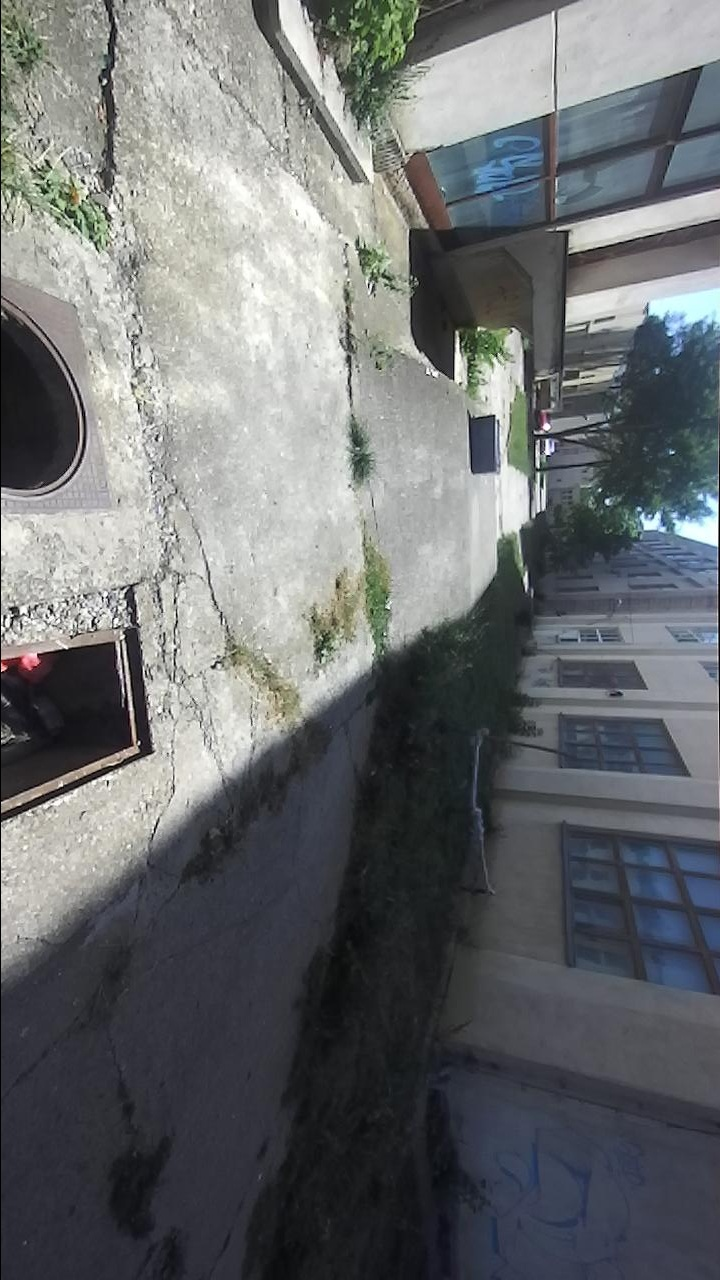drain: (1, 621, 157, 829), (1, 293, 107, 512)
